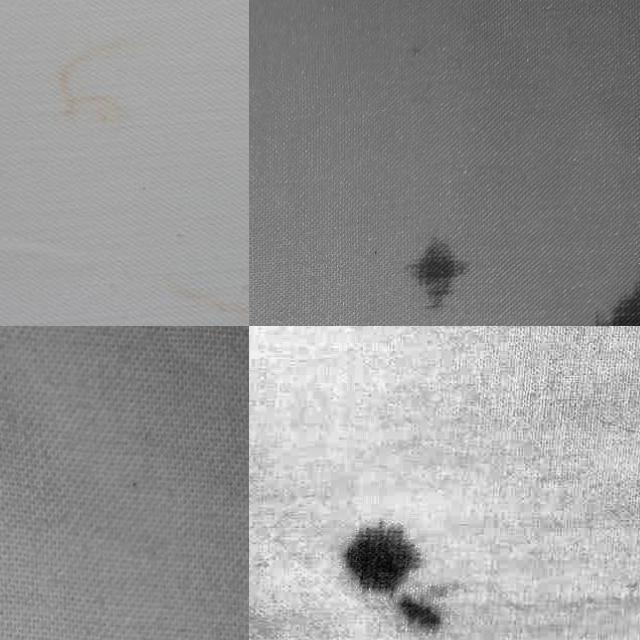Thread_other: (314, 483, 462, 629), (377, 212, 493, 316)
